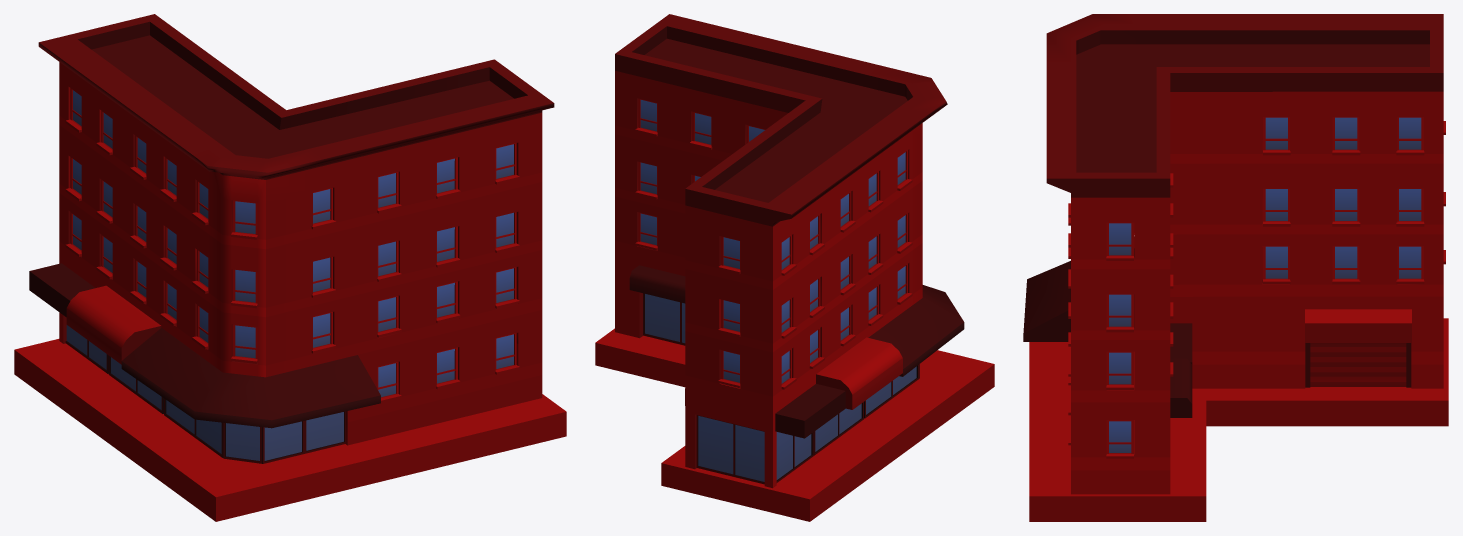
The model's file is Mesh.Corner.fbx.
3 views of the same model, side by side, from view 1: azimuth 30°, elevation 25°; view 2: azimuth 150°, elevation 25°; view 3: azimuth 270°, elevation 25° (orthographic). The views are drawn at different scales.
Parts seen in each view (by area): view 1: base.169, windowRefl.127, color.013; view 2: base.169, windowRefl.127, color.013; view 3: base.169, windowRefl.127, color.013.
Boxes of the visible parts, bbox=[...] form: base.169: bbox=[14, 14, 566, 521]; windowRefl.127: bbox=[66, 90, 513, 460]; color.013: bbox=[29, 263, 380, 428]; base.169: bbox=[595, 14, 994, 521]; windowRefl.127: bbox=[640, 100, 916, 481]; color.013: bbox=[629, 265, 964, 438]; base.169: bbox=[1029, 14, 1448, 521]; windowRefl.127: bbox=[1109, 117, 1421, 452]; color.013: bbox=[1023, 247, 1411, 417].
Bounding box in the file's own units: 2329 × 2307 × 2063.
